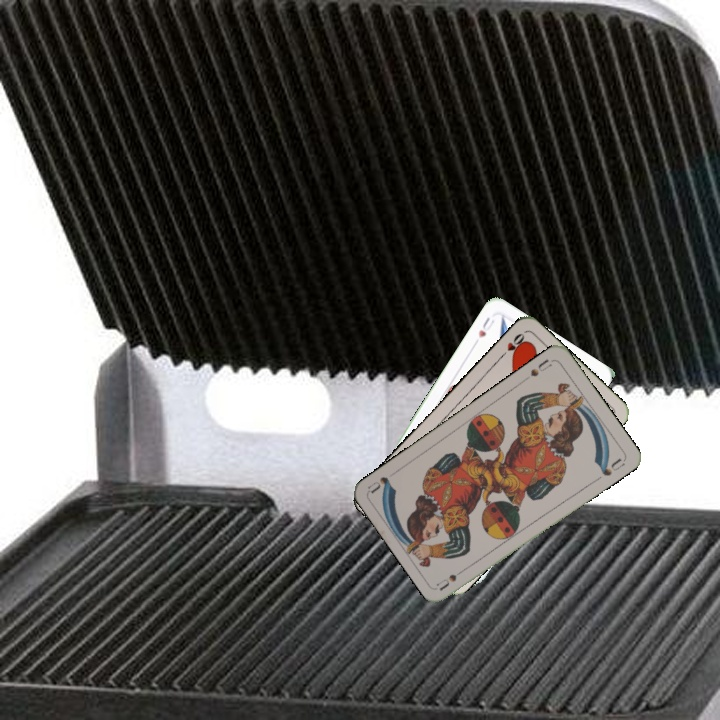HO: (495, 329, 529, 361)
HU: (474, 313, 497, 340)
SU: (433, 562, 471, 592), (521, 355, 554, 384)
